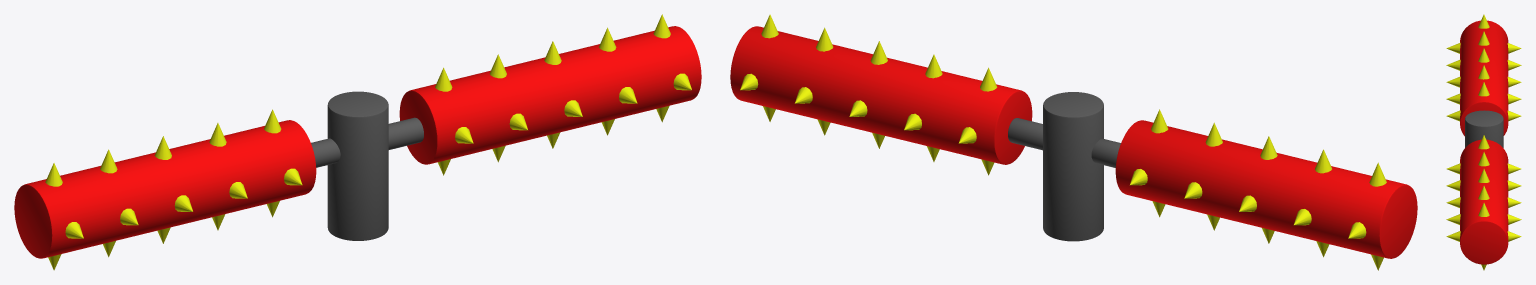
File: dikenlisilindirler.fbx
3 renders of one model, left to right at view 1: azimuth 30°, elevation 25°; view 2: azimuth 150°, elevation 25°; view 3: azimuth 270°, elevation 25°, orthographic. The views are drawn at different scales.
Visible parts, largest first — view 1: Object001; view 2: Object001; view 3: Object001.
Part boxes in pixels (x1,y1,x2,y2): Object001: [14, 14, 701, 270]; Object001: [730, 14, 1417, 270]; Object001: [1446, 14, 1521, 270].
Size of the model in its own units: 491 by 102 by 78.4.
